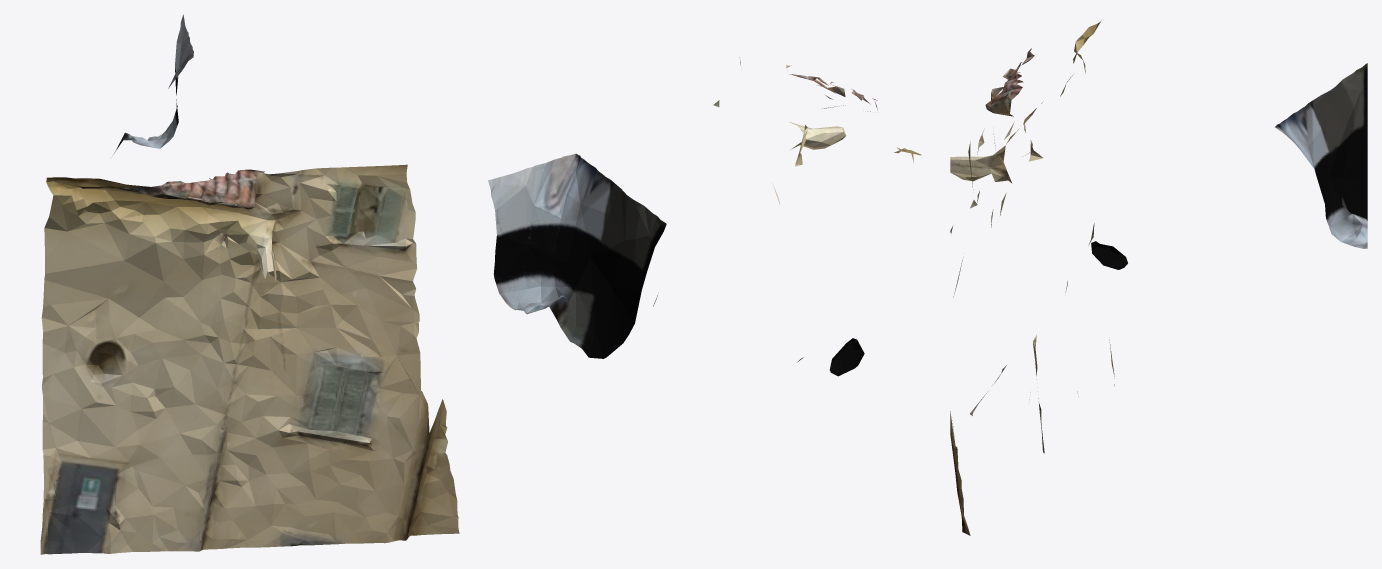
3 views of the same model, side by side, from view 1: azimuth 30°, elevation 25°; view 2: azimuth 150°, elevation 25°; view 3: azimuth 270°, elevation 25° (orthographic). The views are drawn at different scales.
Bounding box in the file's own units: 6.17 × 6.7 × 6.7.
3 materials, 3 textured.
